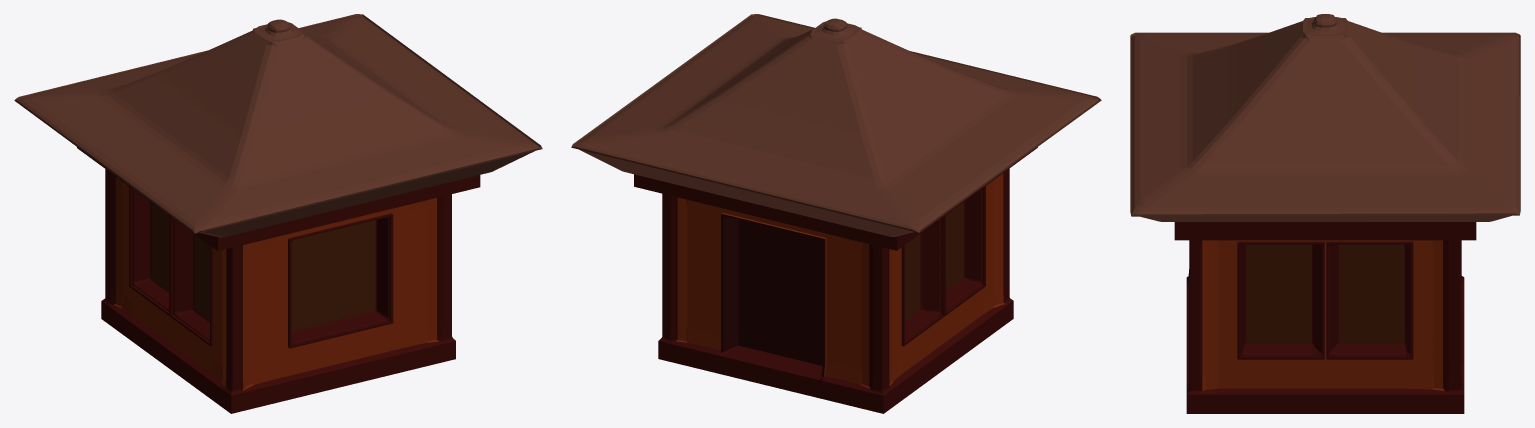
The picture shows the model from 3 angles, left to right: view 1: azimuth 30°, elevation 25°; view 2: azimuth 150°, elevation 25°; view 3: azimuth 270°, elevation 25°; orthographic projection. The views are drawn at different scales.
Visible parts, largest first — view 1: ev1.001; view 2: ev1.001; view 3: ev1.001.
Part boxes in pixels (bbox=[...]): ev1.001: bbox=[14, 14, 542, 413]; ev1.001: bbox=[571, 14, 1101, 413]; ev1.001: bbox=[1130, 14, 1520, 413].
Bounding box in the file's own units: 66.21 × 57.57 × 60.1.
